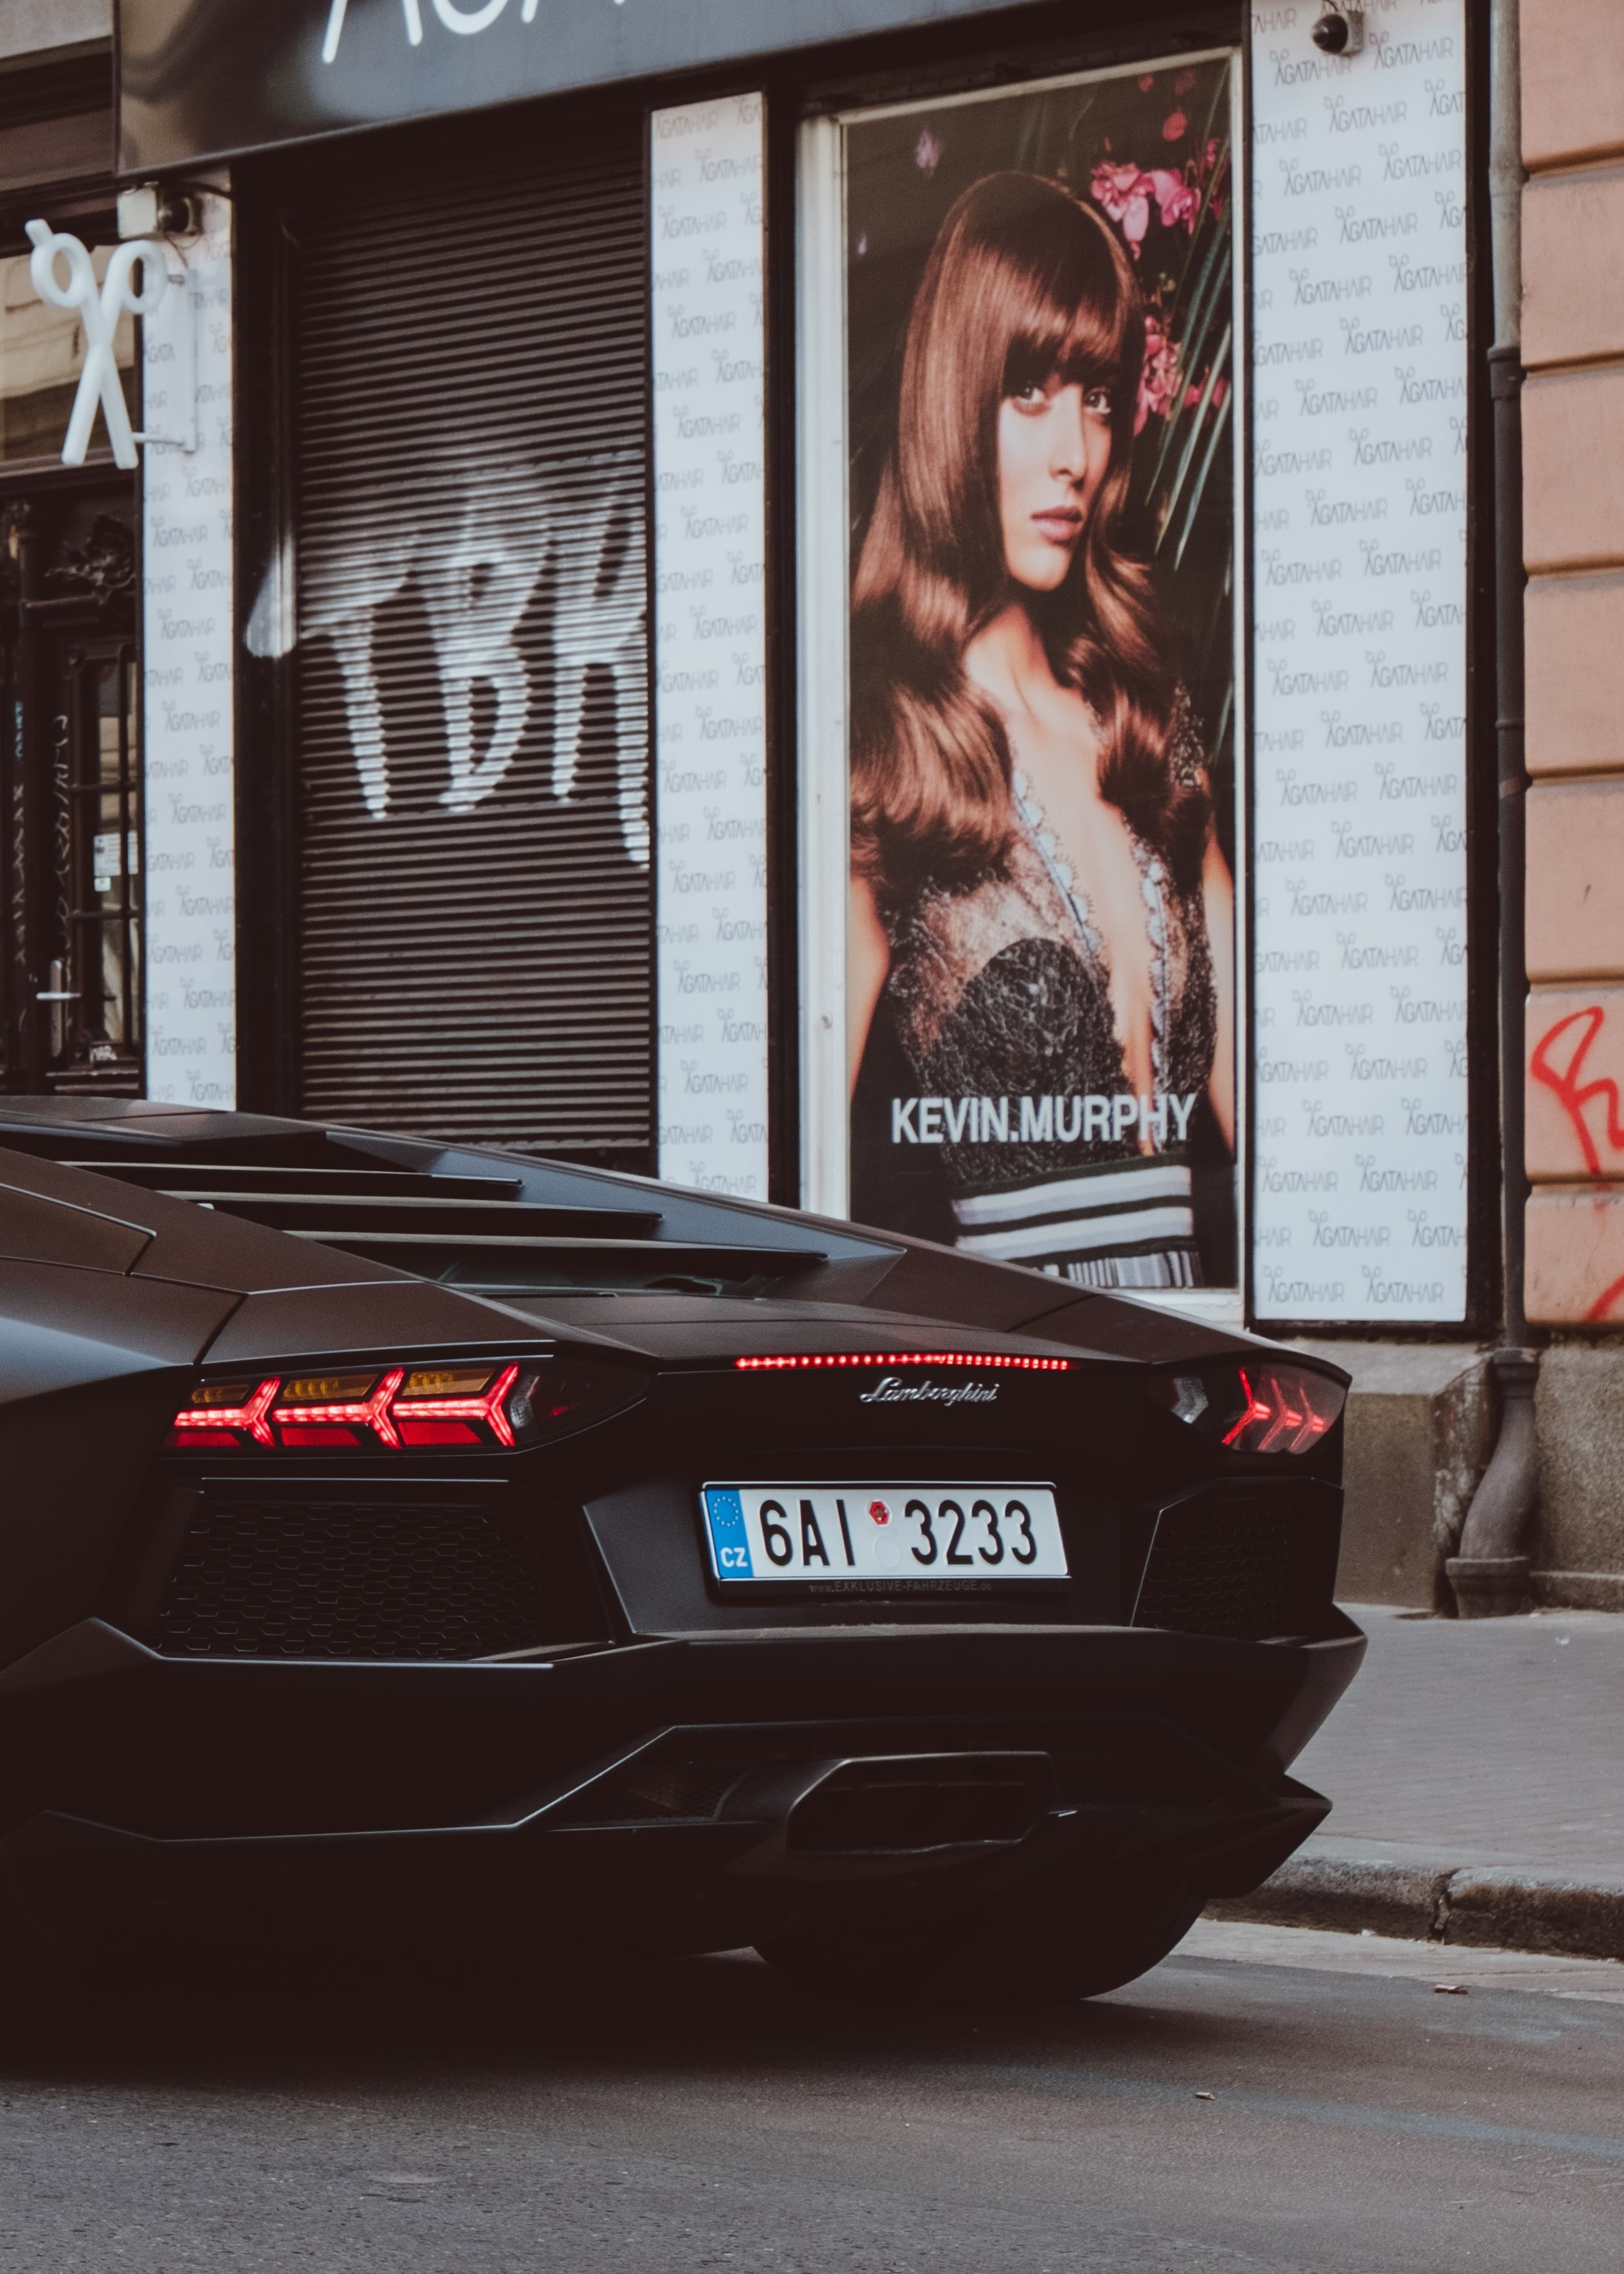plaka: (699, 1481, 1073, 1595)
